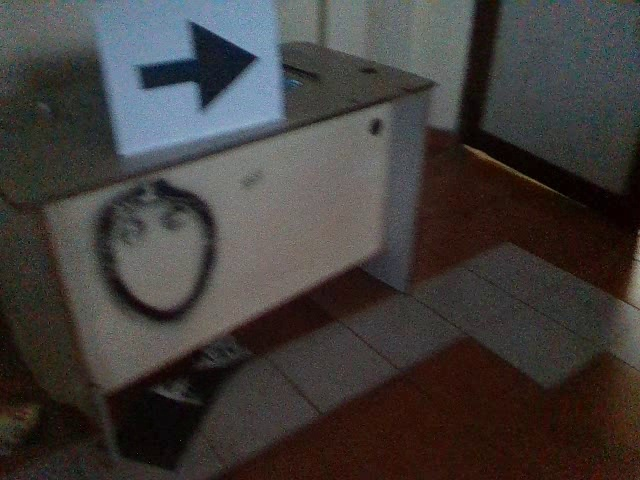Right: (130, 15, 264, 117)
